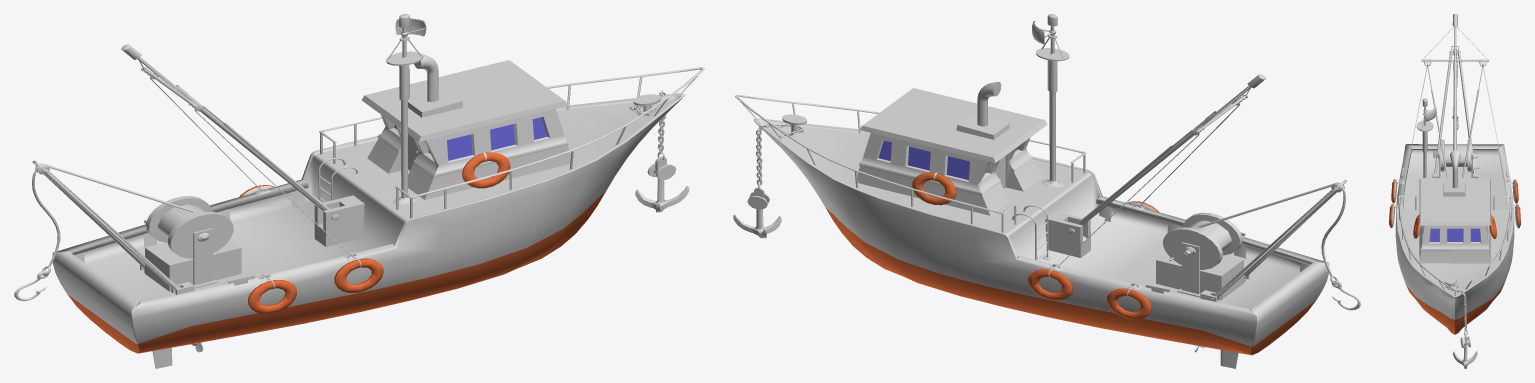
The model's file is Balikci_Teknesi.fbx.
3 views of the same model, side by side, from view 1: azimuth 30°, elevation 25°; view 2: azimuth 150°, elevation 25°; view 3: azimuth 270°, elevation 25° (orthographic). The views are drawn at different scales.
Parts seen in each view (by area): view 1: Fisher_Boat; view 2: Fisher_Boat; view 3: Fisher_Boat.
Part boxes in pixels (x1,y1,x2,y2): Fisher_Boat: [14, 14, 704, 368]; Fisher_Boat: [733, 14, 1360, 368]; Fisher_Boat: [1389, 14, 1520, 368].
Size of the model in its own units: 1602 by 734 by 428.
